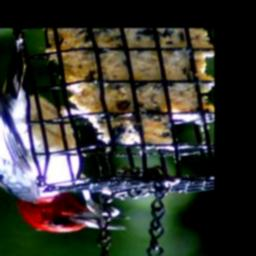Woodpecker: (0, 29, 134, 235)
